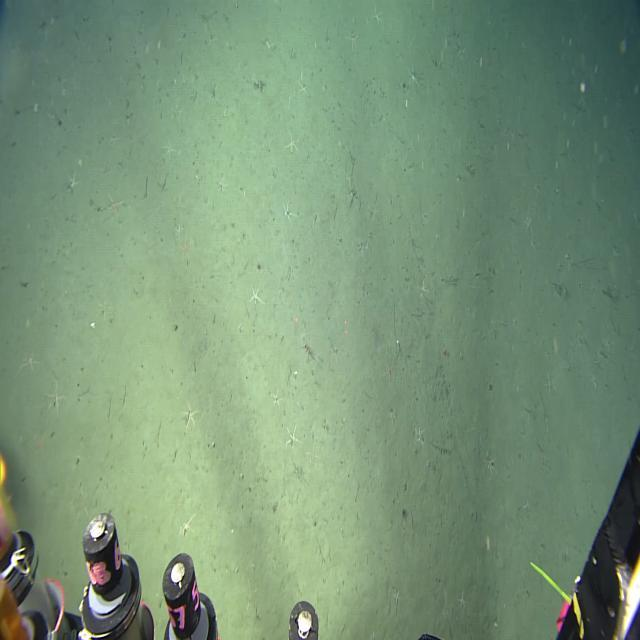Brittle Star: (42, 374, 70, 417), (177, 395, 203, 436), (174, 506, 200, 543), (102, 186, 128, 223), (297, 329, 321, 368), (16, 344, 43, 378), (292, 67, 314, 101), (245, 280, 268, 312), (282, 419, 304, 452), (175, 232, 196, 266), (481, 449, 501, 483), (278, 196, 299, 228), (282, 127, 303, 158), (404, 61, 425, 92), (364, 193, 384, 225), (63, 165, 83, 197), (411, 420, 430, 452), (160, 133, 180, 163), (413, 270, 432, 301), (381, 354, 399, 386), (343, 24, 362, 54), (213, 168, 231, 198), (368, 5, 387, 30), (455, 587, 470, 612)
